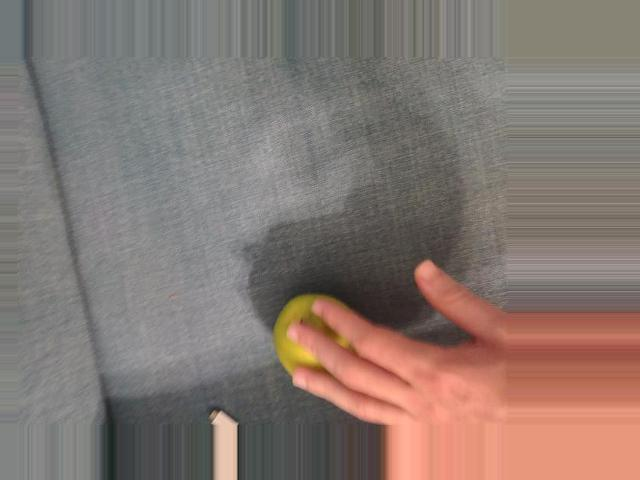apple: (253, 286, 377, 379)
